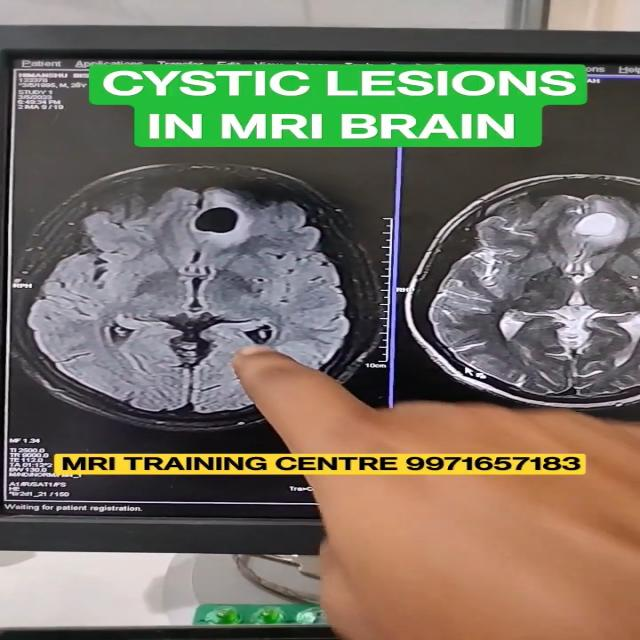tumor: (188, 192, 270, 252), (537, 209, 640, 248)
